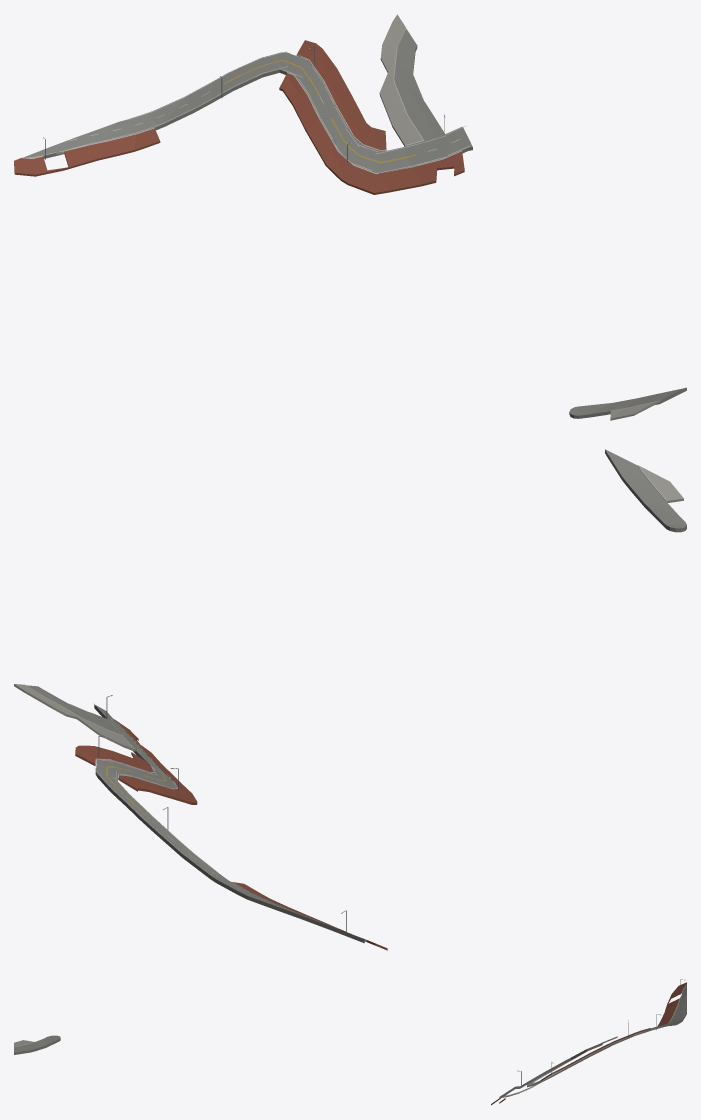
3 renders of one model, top to bottom at view 1: azimuth 30°, elevation 25°; view 2: azimuth 150°, elevation 25°; view 3: azimuth 270°, elevation 25°, orthographic. The views are drawn at different scales.
Bounding box in the file's own units: 136 × 43.19 × 292.
